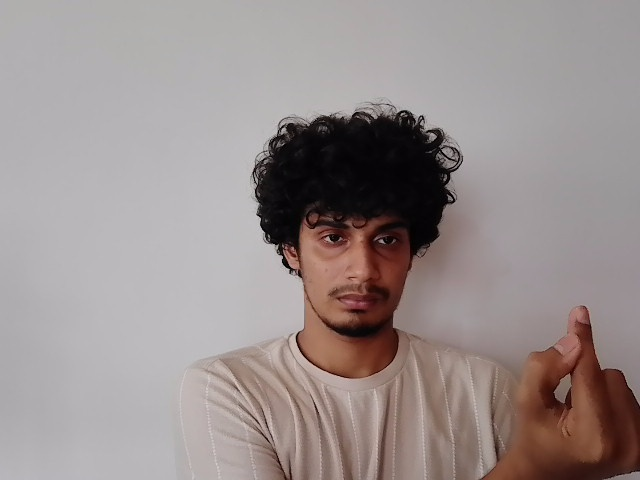just: (506, 303, 640, 472)
